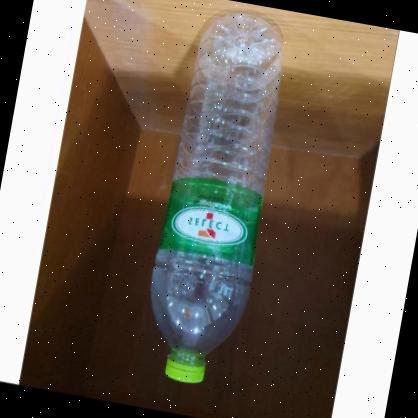bottle: (133, 3, 297, 392)
cap: (163, 352, 209, 384)
label: (156, 169, 265, 267)
